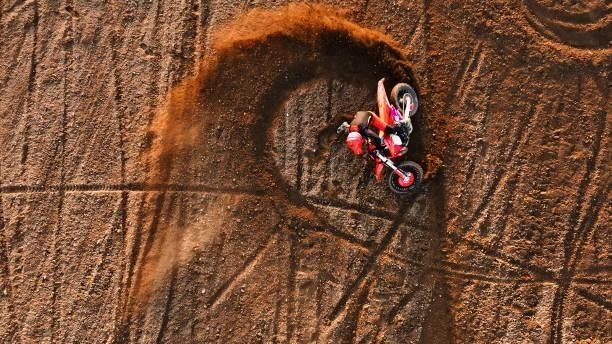Motorcycle: (344, 74, 438, 198)
